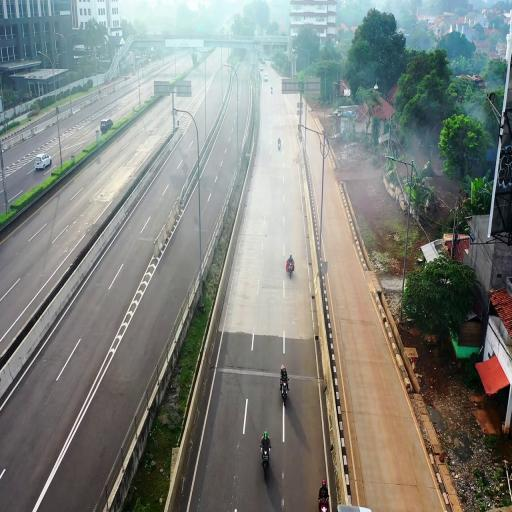vehicle: (34, 154, 52, 172), (286, 254, 294, 276)
